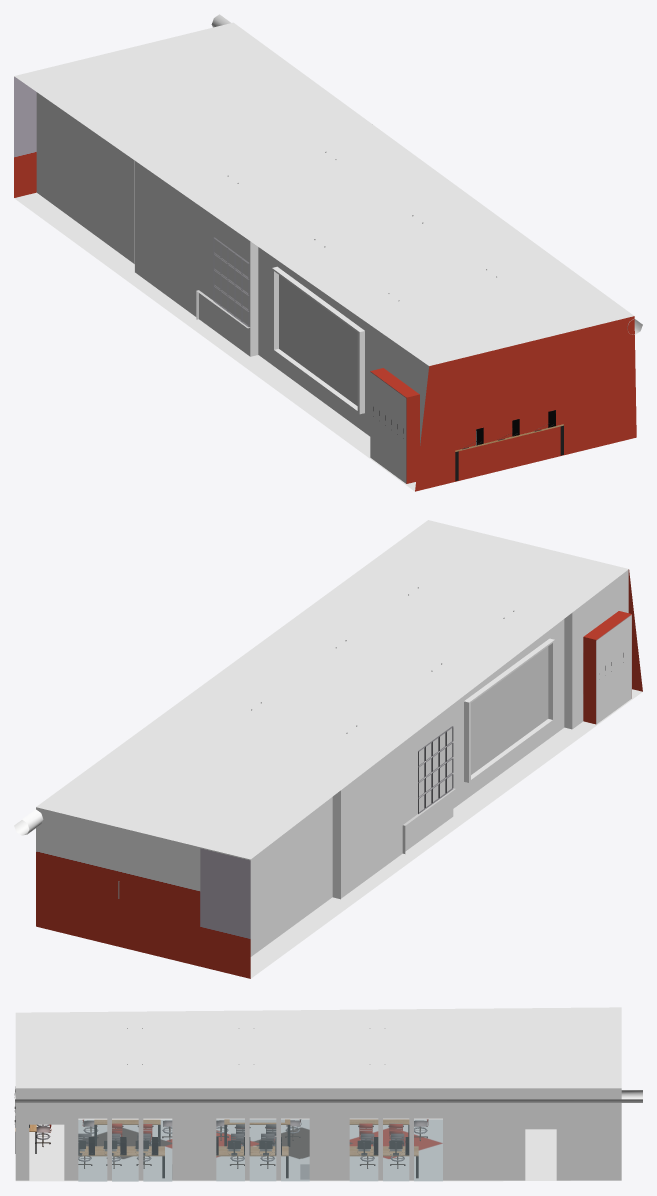
File: citl_environment.fbx
3 renders of one model, top to bottom at view 1: azimuth 30°, elevation 25°; view 2: azimuth 150°, elevation 25°; view 3: azimuth 270°, elevation 25°, orthographic. The views are drawn at different scales.
Visible parts, largest first — view 1: Plane.072, Plane.011; view 2: Plane.072, Plane.011, Plane.048; view 3: Plane.072, Plane.047, Plane.080, Plane.049, Plane.053, Plane.010, Plane.033, Plane.040, Plane.079, Plane.004, Plane.020, Plane.042 (+2 smaller).
Part boxes in pixels (x1=…): Plane.072: x1=14, y1=22, x2=636, y2=491; Plane.011: x1=213, y1=237, x2=249, y2=327; Plane.072: x1=36, y1=520, x2=642, y2=978; Plane.011: x1=418, y1=726, x2=453, y2=813; Plane.048: x1=332, y1=790, x2=340, y2=899; Plane.072: x1=15, y1=1007, x2=621, y2=1181; Plane.047: x1=15, y1=1088, x2=193, y2=1181; Plane.080: x1=327, y1=1088, x2=460, y2=1181; Plane.049: x1=194, y1=1088, x2=327, y2=1181; Plane.053: x1=15, y1=1090, x2=642, y2=1102; Plane.010: x1=79, y1=1146, x2=164, y2=1178; Plane.033: x1=216, y1=1146, x2=288, y2=1178; Plane.040: x1=349, y1=1146, x2=418, y2=1178; Plane.079: x1=224, y1=1119, x2=290, y2=1146; Plane.004: x1=94, y1=1119, x2=160, y2=1146; Plane.020: x1=349, y1=1119, x2=409, y2=1136; Plane.042: x1=357, y1=1137, x2=378, y2=1155.
Bounding box in the file's own units: 2957 × 1539 × 9360.
8 materials, 4 textured.
